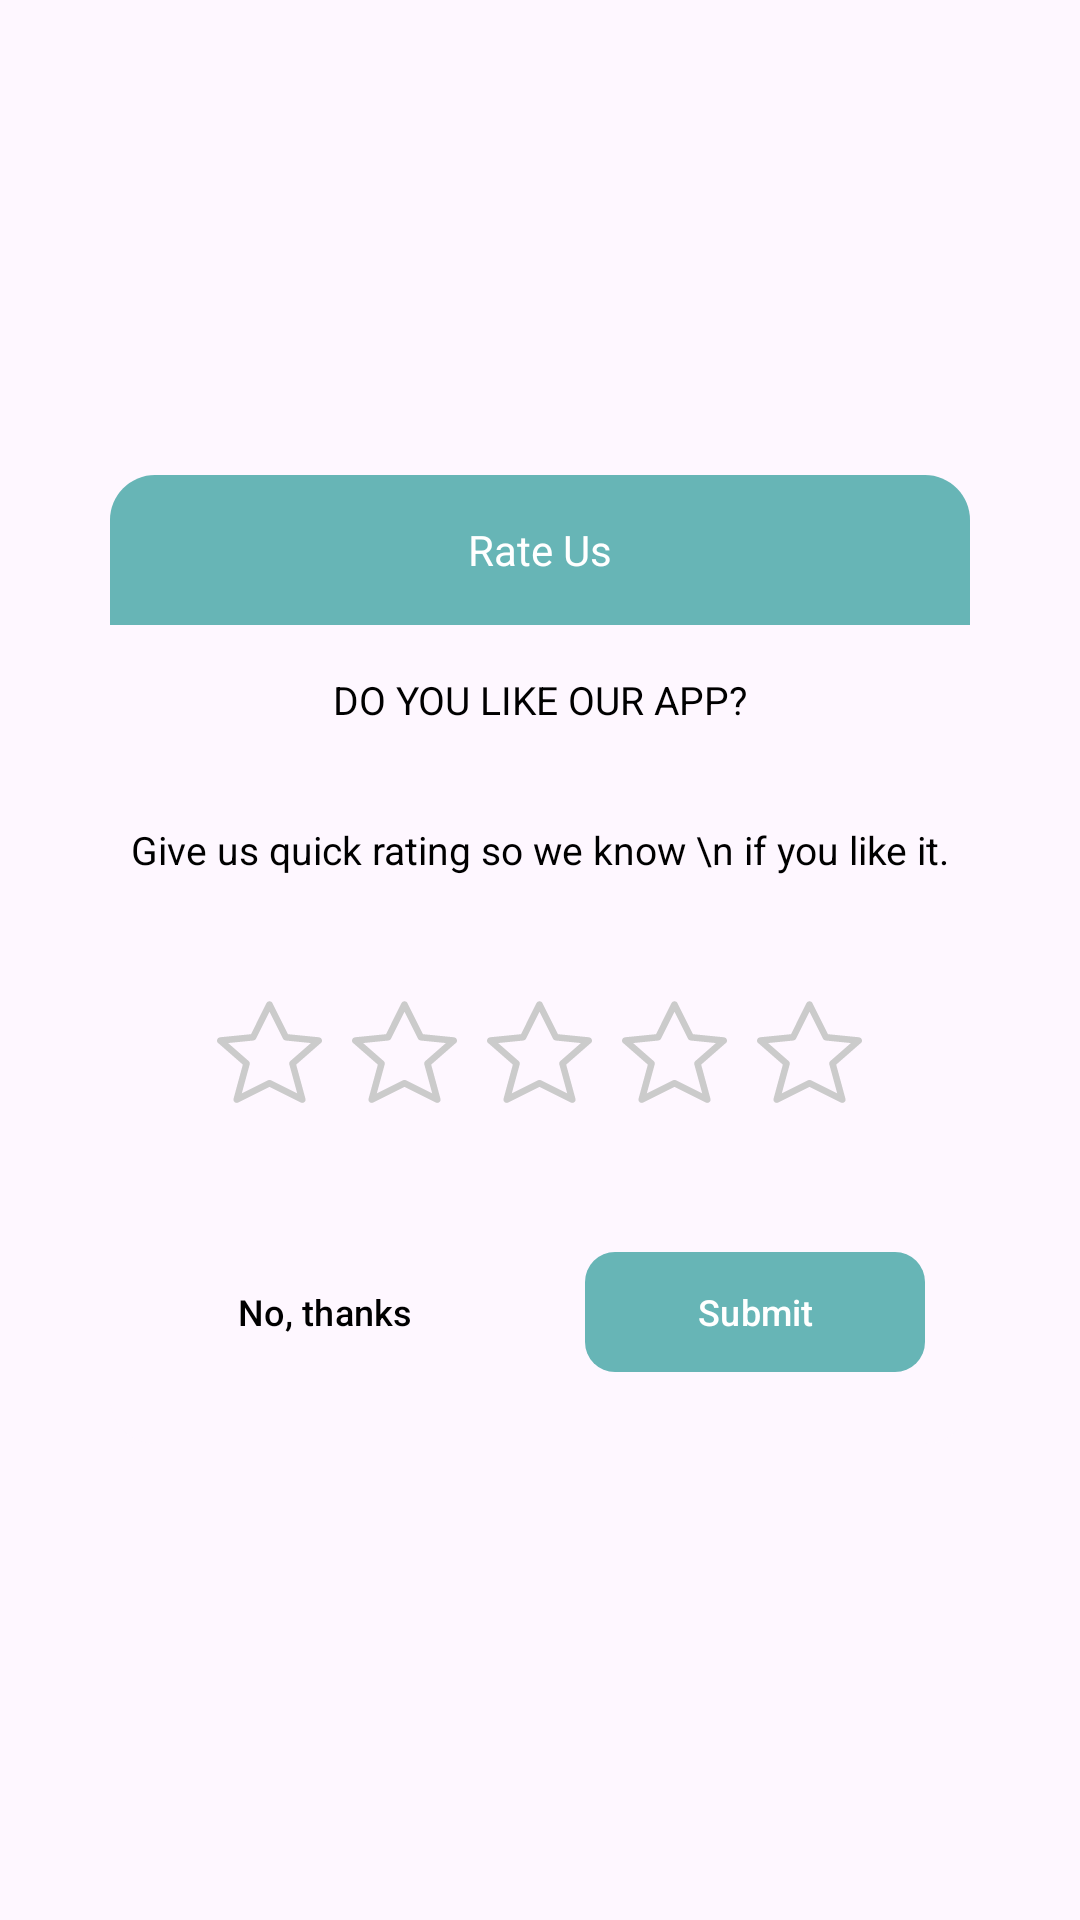

Named icons in this screenshot (1080 × 1920) and their bounding boxes, {"left": x1, "top": y1, "right": x2, "bottom": y2}:
star action: {"left": 217, "top": 1001, "right": 322, "bottom": 1103}, {"left": 352, "top": 1001, "right": 457, "bottom": 1103}, {"left": 487, "top": 1001, "right": 592, "bottom": 1103}, {"left": 622, "top": 1001, "right": 727, "bottom": 1103}, {"left": 757, "top": 1001, "right": 862, "bottom": 1103}
